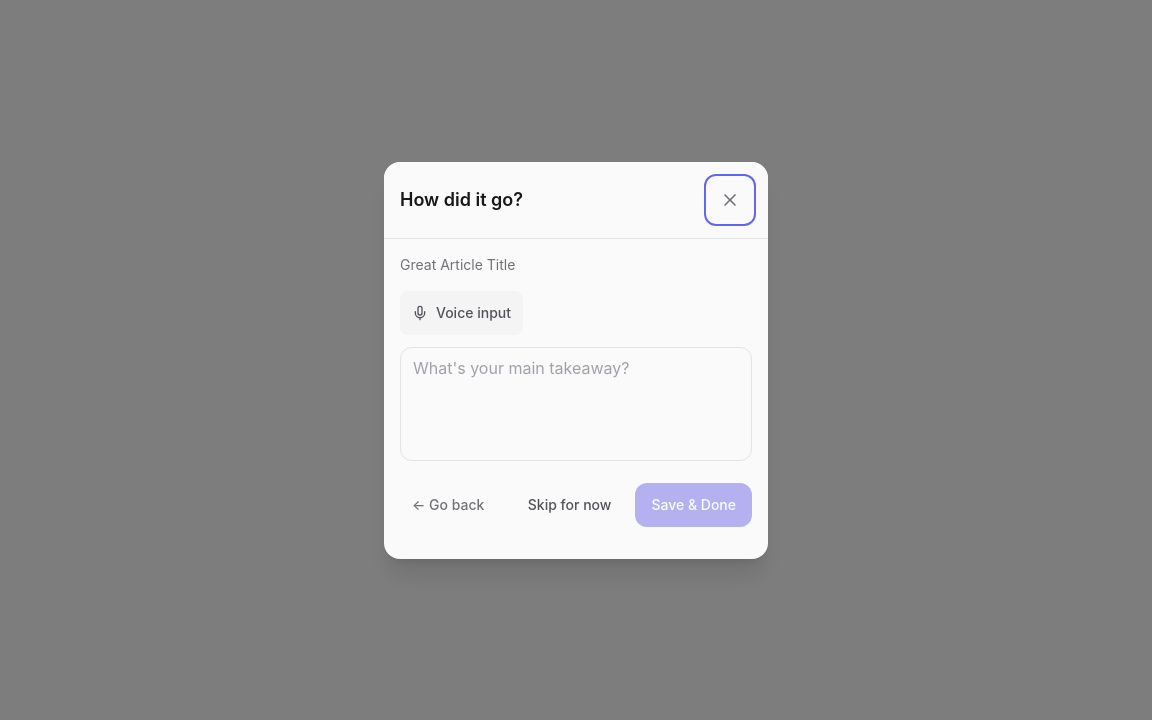
Test case: ReflectionModal › 3. typing in textarea enables Save & Done button
Type "Really insightful read" into the text box with placeholder "What's your main takeaway?" at point(576, 404), box top-left (400, 346), bottom-right (752, 460)
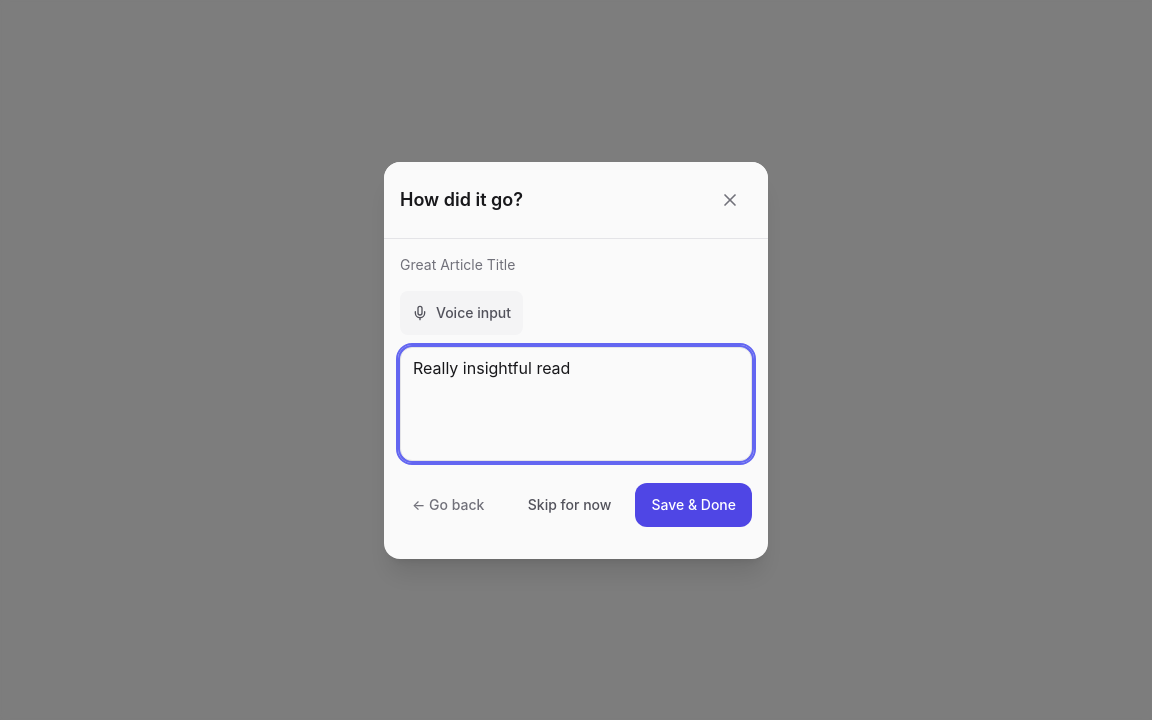
Expected: the button "Save & Done" is enabled, top-left (635, 482), bottom-right (752, 526)
